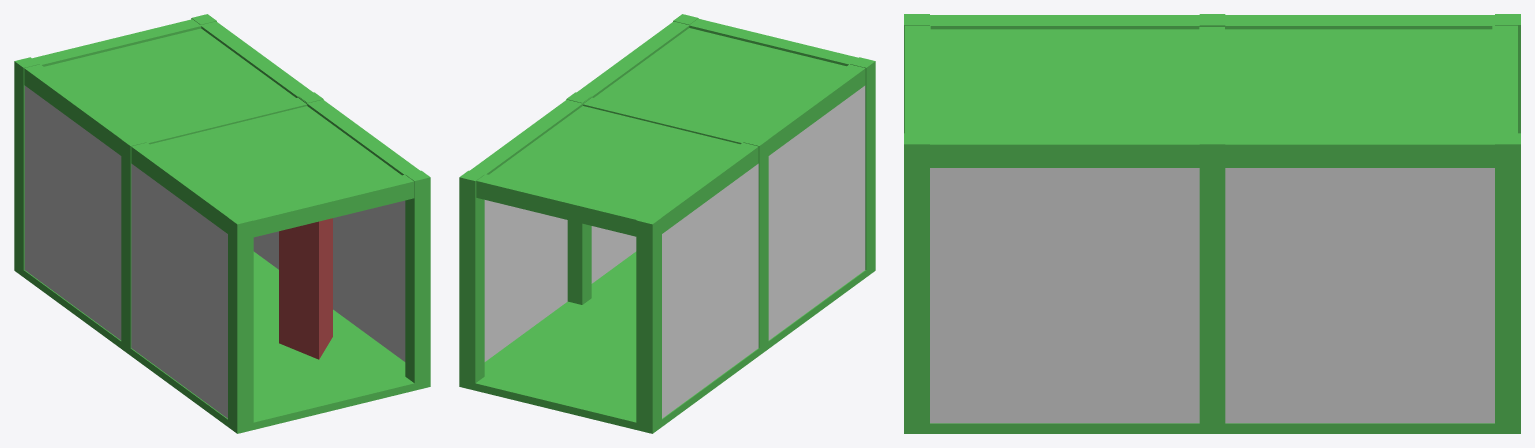
The model's file is Tunnel 1.fbx.
The picture shows the model from 3 angles, left to right: view 1: azimuth 30°, elevation 25°; view 2: azimuth 150°, elevation 25°; view 3: azimuth 270°, elevation 25°; orthographic projection. The views are drawn at different scales.
Visible parts, largest first — view 1: Tunnel, Cylinder.001; view 2: Tunnel; view 3: Tunnel.
Part boxes in pixels (left/top/right/bottom): Tunnel: left=14, top=14, right=430, bottom=433; Cylinder.001: left=279, top=218, right=332, bottom=359; Tunnel: left=459, top=14, right=875, bottom=433; Tunnel: left=904, top=14, right=1520, bottom=433.
Size of the model in its own units: 200 by 207 by 400.
